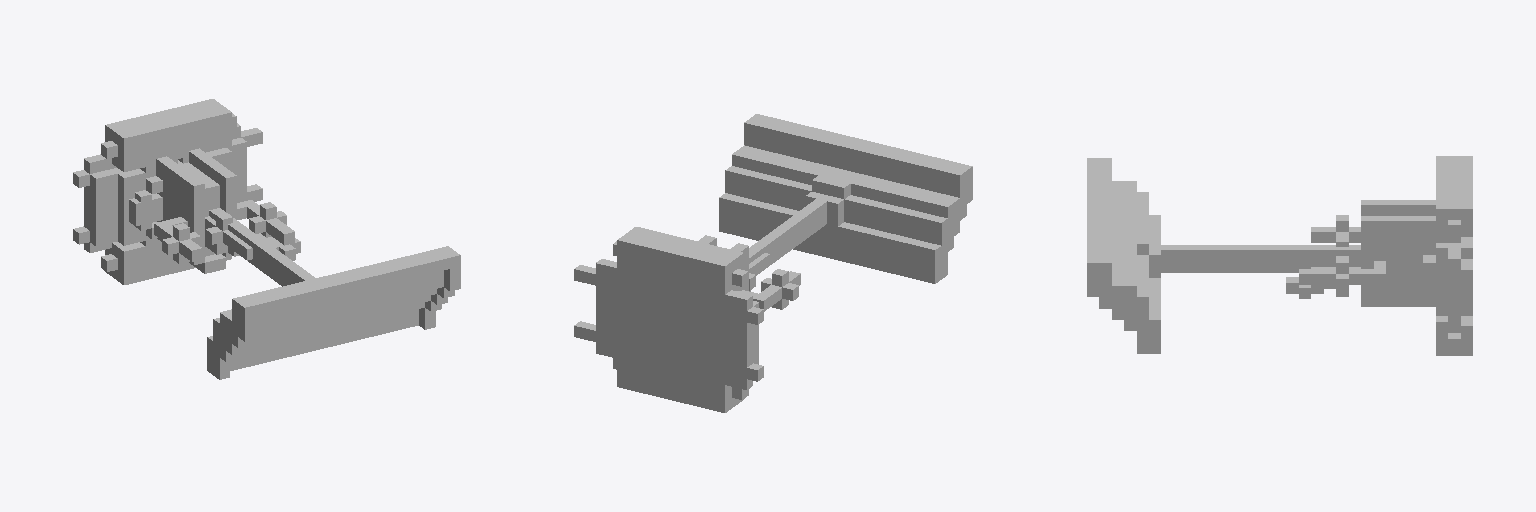
File: packLibraryProps.obj
3 views of the same model, side by side, from view 1: azimuth 30°, elevation 25°; view 2: azimuth 150°, elevation 25°; view 3: azimuth 270°, elevation 25° (orthographic).
Parts seen in each view (by area): view 1: apoyaLibre, PergaminoA, libroA, libroAbierto, candelabro, tintero, pergaminoB; view 2: apoyaLibre, PergaminoA, libroAbierto, candelabro, hojaA, pergaminoB, vela, hojaB; view 3: apoyaLibre, libroA, PergaminoA, candelabro, libroAbierto, tintero.
Boxes of the visible parts, box(x1,y1,x2,y2) form: apoyaLibre: box(73, 128, 460, 379); PergaminoA: box(101, 99, 236, 284); libroA: box(156, 148, 236, 273); libroAbierto: box(84, 123, 246, 252); candelabro: box(154, 200, 294, 263); tintero: box(118, 159, 300, 260); pergaminoB: box(112, 185, 162, 226); apoyaLibre: box(574, 114, 972, 381); PergaminoA: box(613, 227, 748, 412); libroAbierto: box(596, 259, 758, 389); candelabro: box(633, 253, 800, 368); hojaA: box(639, 269, 703, 384); pergaminoB: box(612, 293, 730, 360); vela: box(633, 300, 703, 377); hojaB: box(639, 268, 703, 382); apoyaLibre: box(1087, 158, 1472, 353); libroA: box(1361, 200, 1435, 306); PergaminoA: box(1436, 156, 1472, 355); candelabro: box(1299, 215, 1385, 296); libroAbierto: box(1436, 237, 1472, 337); tintero: box(1286, 267, 1360, 298).
Bounding box in the file's own units: 100 × 65 × 155.